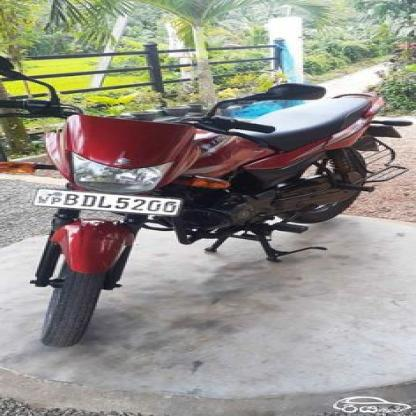bike front: (0, 47, 415, 352)
number plate: (26, 187, 183, 217)
